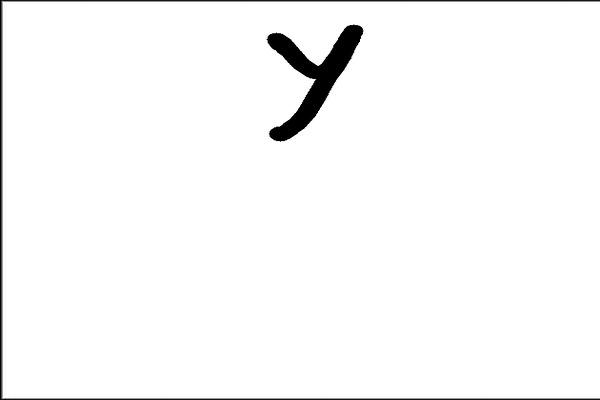Y: (252, 15, 370, 151)
